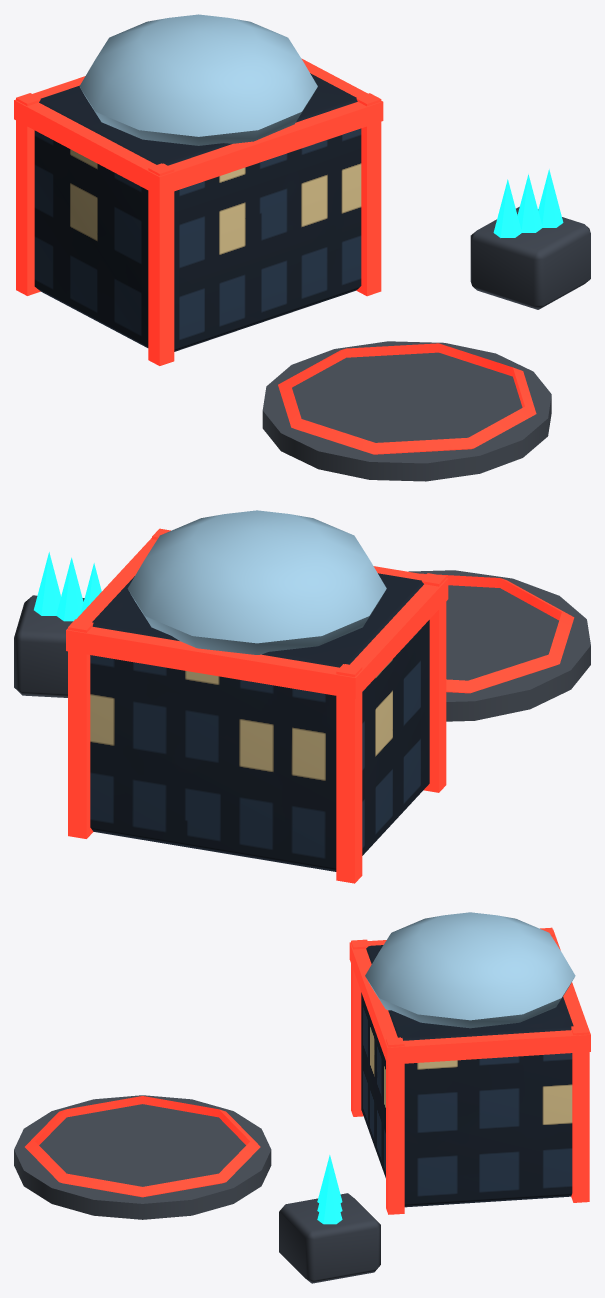
File: homestead_scifi_red.glb
The picture shows the model from 3 angles, top to bottom: view 1: azimuth 30°, elevation 25°; view 2: azimuth 150°, elevation 25°; view 3: azimuth 270°, elevation 25°; orthographic projection. The views are drawn at different scales.
Parts seen in each view (by area): view 1: homestead_scifi_red; view 2: homestead_scifi_red; view 3: homestead_scifi_red.
Boxes of the visible parts, left/top/right/bottom form: homestead_scifi_red: left=14, top=14, right=590, bottom=481; homestead_scifi_red: left=14, top=510, right=590, bottom=883; homestead_scifi_red: left=14, top=912, right=590, bottom=1283.
Bounding box in the file's own units: 0.3835 × 0.215 × 0.4932.
Materials: 3 (1 with a texture image).
